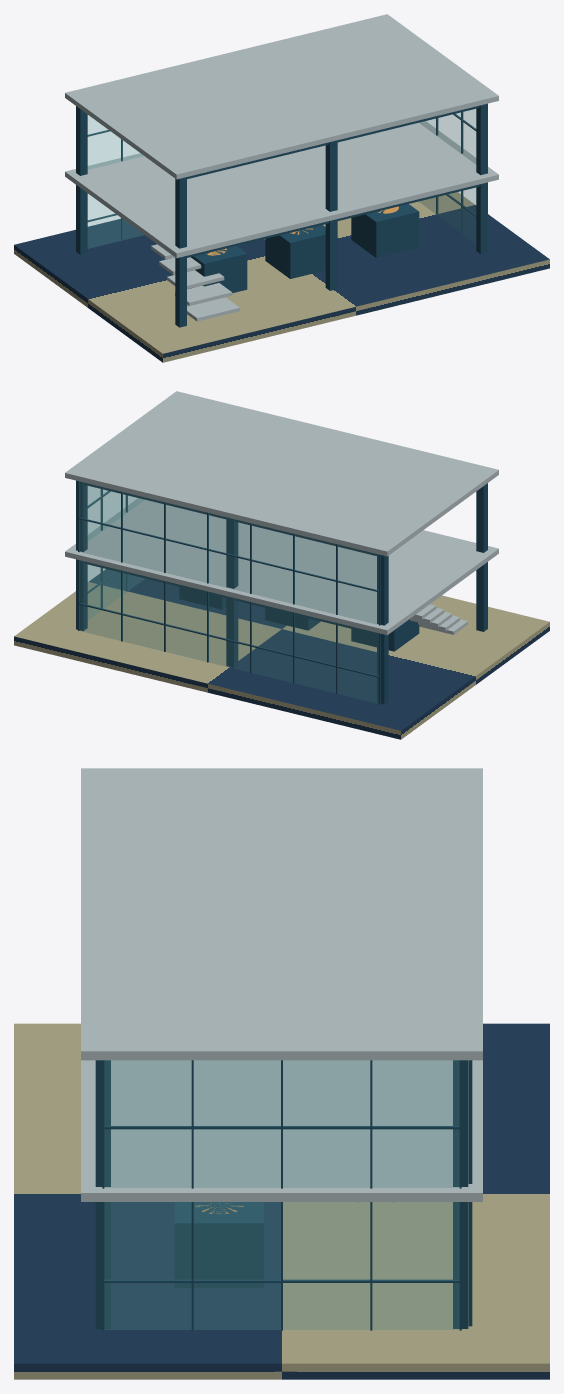
3 renders of one model, top to bottom at view 1: azimuth 30°, elevation 25°; view 2: azimuth 150°, elevation 25°; view 3: azimuth 270°, elevation 25°, orthographic. The views are drawn at different scales.
Parts seen in each view (by area): view 1: بلاطة خرسانية (×2), قاعدة 18 × 12 متر, وحدة تشغيل (×3), واجهة زجاجية شرقية, واجهة زجاجية خلفية, درجة سلم داخلية (×3), عمود 0, 4, عمود -7, 4, عمود 7, 4, كمرة فولاذية (×2), عمود -7, -4; view 2: بلاطة خرسانية (×2), واجهة زجاجية خلفية, قاعدة 18 × 12 متر, واجهة زجاجية شرقية, وحدة تشغيل (×3), عمود 0, -4, كمرة فولاذية (×2), عمود -7, 4, عارضة واجهة (×2), عمود -7, -4, عمود 7, -4; view 3: بلاطة خرسانية (×2), قاعدة 18 × 12 متر, واجهة زجاجية شرقية, وحدة تشغيل, عمود 7, -4, عمود 7, 4, قائم واجهة شرقية (×4), عارضة واجهة شرقية (×2), قائم واجهة.
Boxes of the visible parts, x1,y1,x2,y2 form: بلاطة خرسانية (×2): (65, 14, 498, 258); قاعدة 18 × 12 متر: (14, 192, 549, 362); وحدة تشغيل (×3): (190, 204, 419, 293); واجهة زجاجية شرقية: (419, 109, 475, 242); واجهة زجاجية خلفية: (88, 115, 143, 248); درجة سلم داخلية (×3): (167, 270, 239, 321); عمود 0, 4: (325, 140, 337, 290); عمود -7, 4: (175, 177, 186, 327); عمود 7, 4: (476, 103, 487, 254); كمرة فولاذية (×2): (187, 105, 479, 257); عمود -7, -4: (76, 106, 87, 254); بلاطة خرسانية (×2): (65, 391, 498, 635); واجهة زجاجية خلفية: (79, 482, 378, 703); قاعدة 18 × 12 متر: (14, 569, 549, 739); واجهة زجاجية شرقية: (88, 486, 143, 619); وحدة تشغيل (×3): (179, 587, 419, 651); عمود 0, -4: (226, 517, 238, 667); كمرة فولاذية (×2): (84, 482, 376, 634); عمود -7, 4: (476, 483, 487, 631); عارضة واجهة (×2): (79, 517, 378, 677); عمود -7, -4: (377, 554, 388, 704); عمود 7, -4: (76, 480, 87, 631); بلاطة خرسانية (×2): (81, 768, 482, 1201); قاعدة 18 × 12 متر: (14, 1023, 549, 1379); واجهة زجاجية شرقية: (104, 1060, 459, 1329); وحدة تشغيل: (174, 1202, 263, 1287); عمود 7, -4: (453, 1060, 468, 1328); عمود 7, 4: (95, 1060, 110, 1328); قائم واجهة شرقية (×4): (102, 1060, 461, 1330); عارضة واجهة شرقية (×2): (103, 1126, 460, 1282); قائم واجهة: (468, 1060, 472, 1326).
Size of the model in its own units: 18 by 7.41 by 12.
5 materials, 1 textured.
